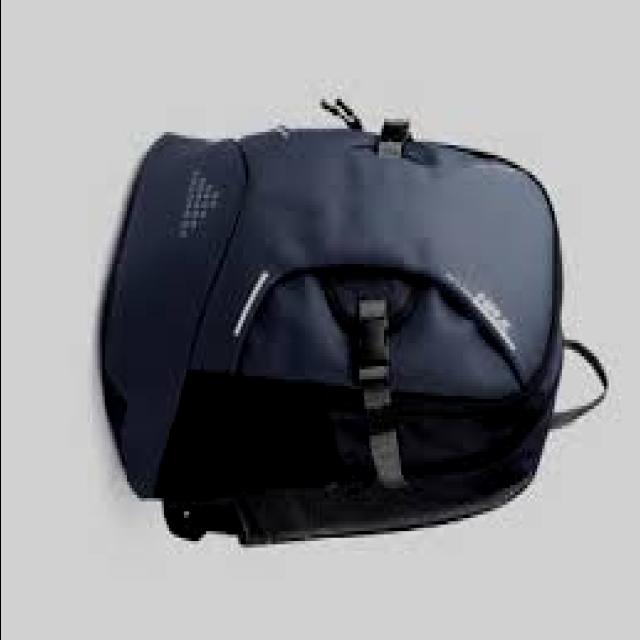backpack: (103, 97, 612, 549)
